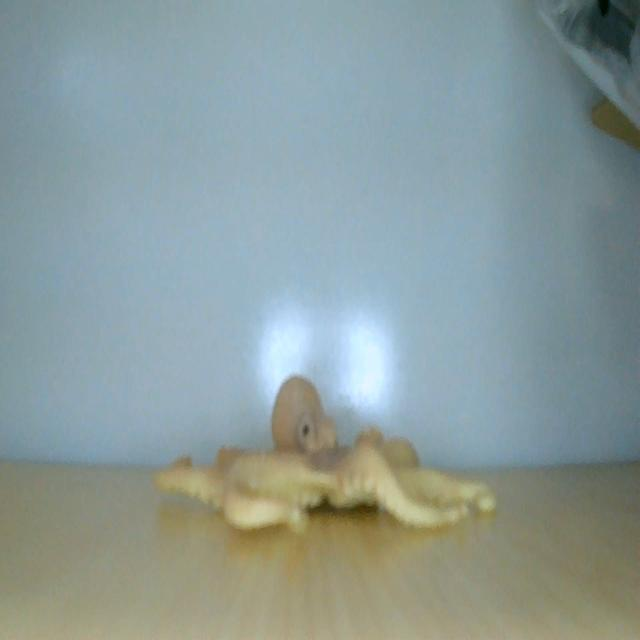octopus: (155, 376, 495, 531)
